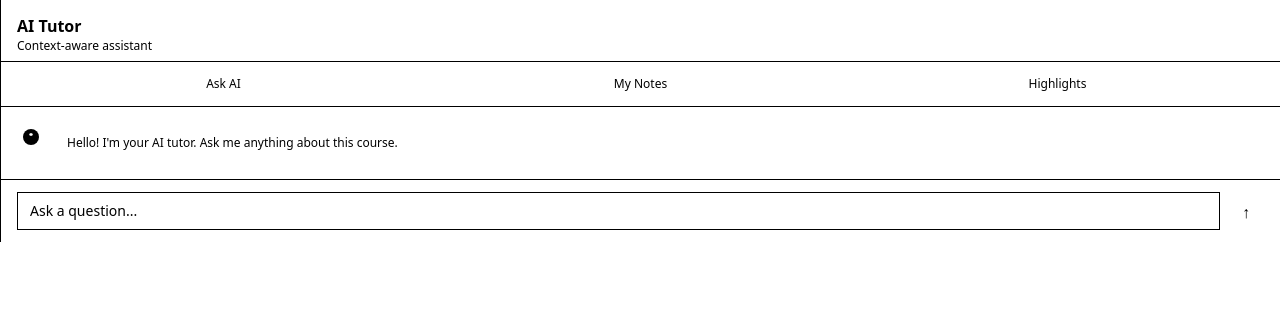
Test case: AITutorPanel › typing in textarea and clicking send adds user message
Type "Hello" into the text box with test id "ai-tutor-input".
click(618, 210); type("Hello")  # box [17,192,1220,230]
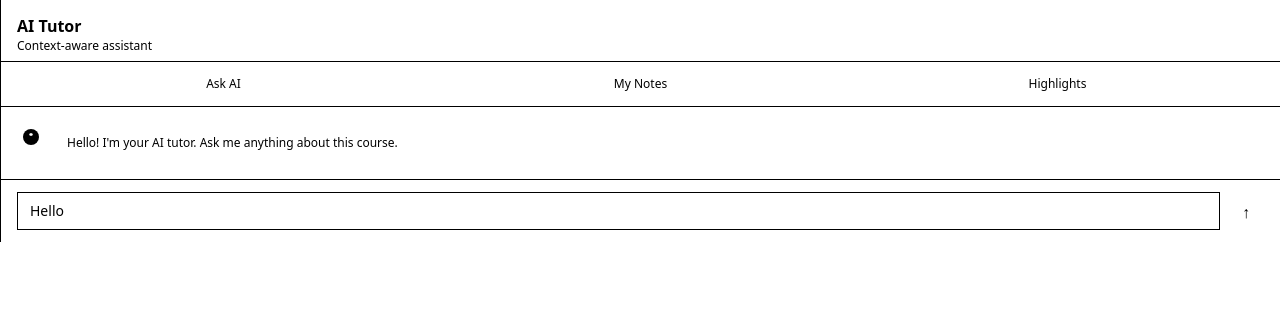
Click the button with test id "ai-tutor-send".
click(1246, 212)  # box [1228,194,1264,230]
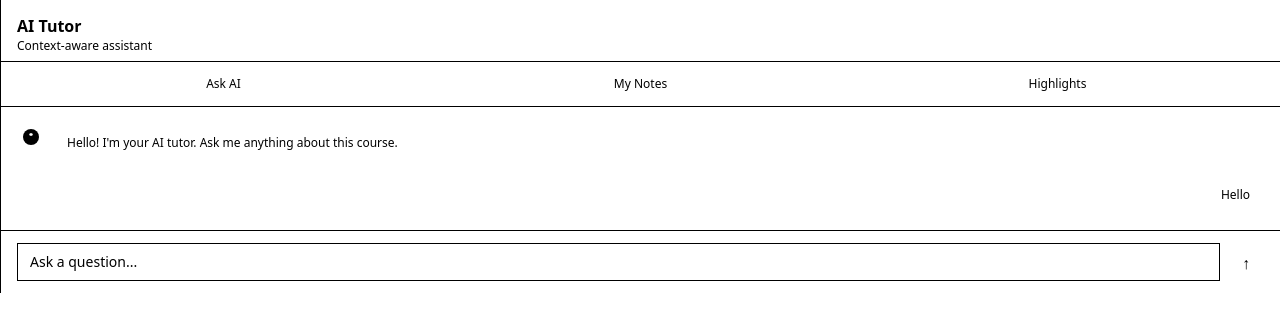
Expected: the text "Hello" is shown, [1221,186,1250,202]
